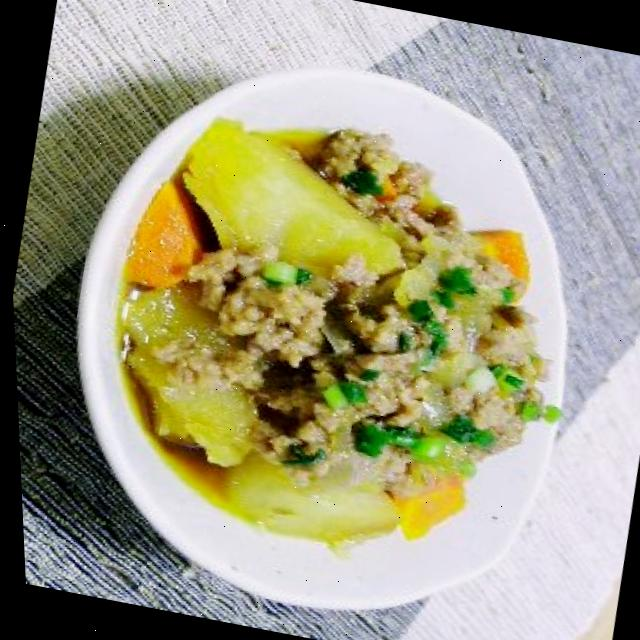牛肉菜式: (4, 11, 640, 640)
